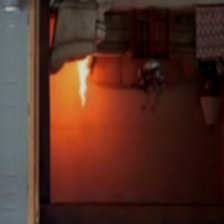fire: (66, 60, 97, 113)
